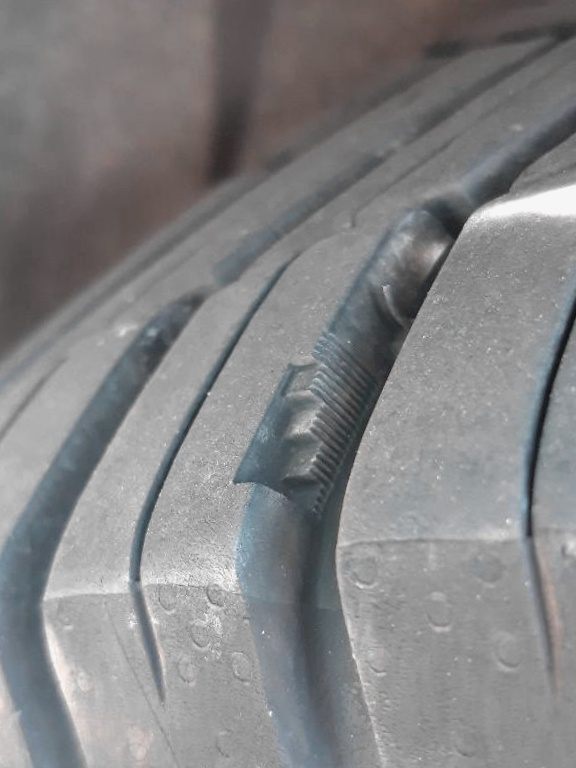temoin:90: (217, 321, 391, 533)
